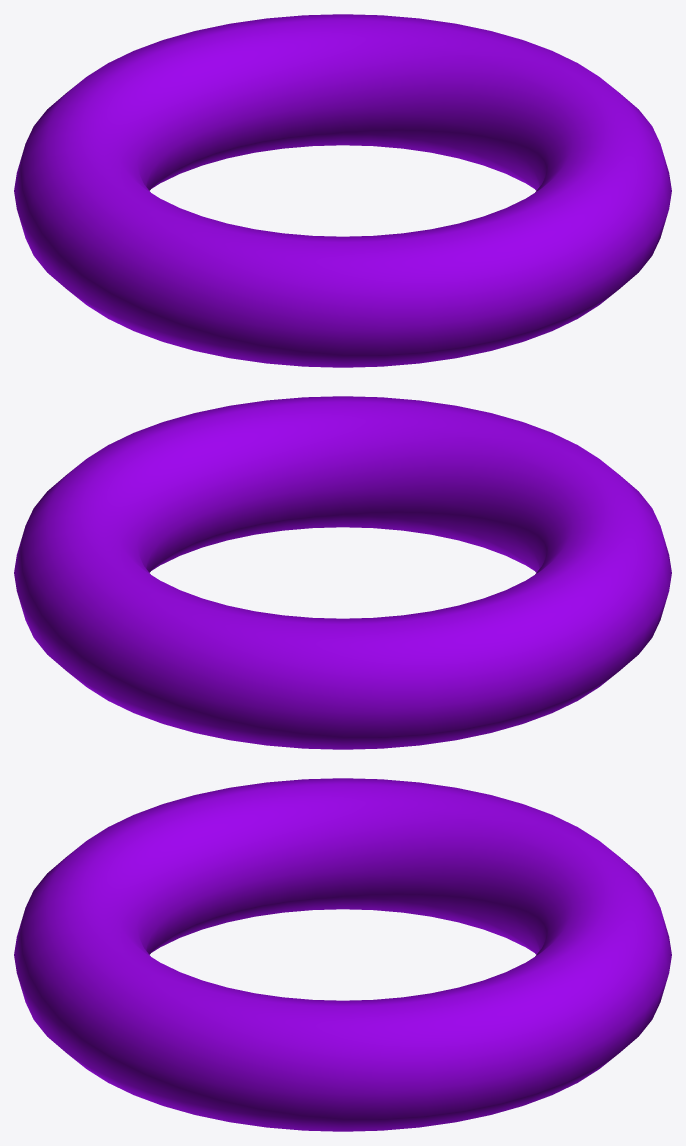
3 renders of one model, top to bottom at view 1: azimuth 30°, elevation 25°; view 2: azimuth 150°, elevation 25°; view 3: azimuth 270°, elevation 25°, orthographic.
Visible parts, largest first — view 1: Torus; view 2: Torus; view 3: Torus.
Part boxes in pixels (x1,y1,x2,y2): Torus: [14, 14, 671, 367]; Torus: [14, 396, 671, 749]; Torus: [14, 778, 671, 1131].
Bounding box in the file's own units: 2.5 × 0.5 × 2.5.
